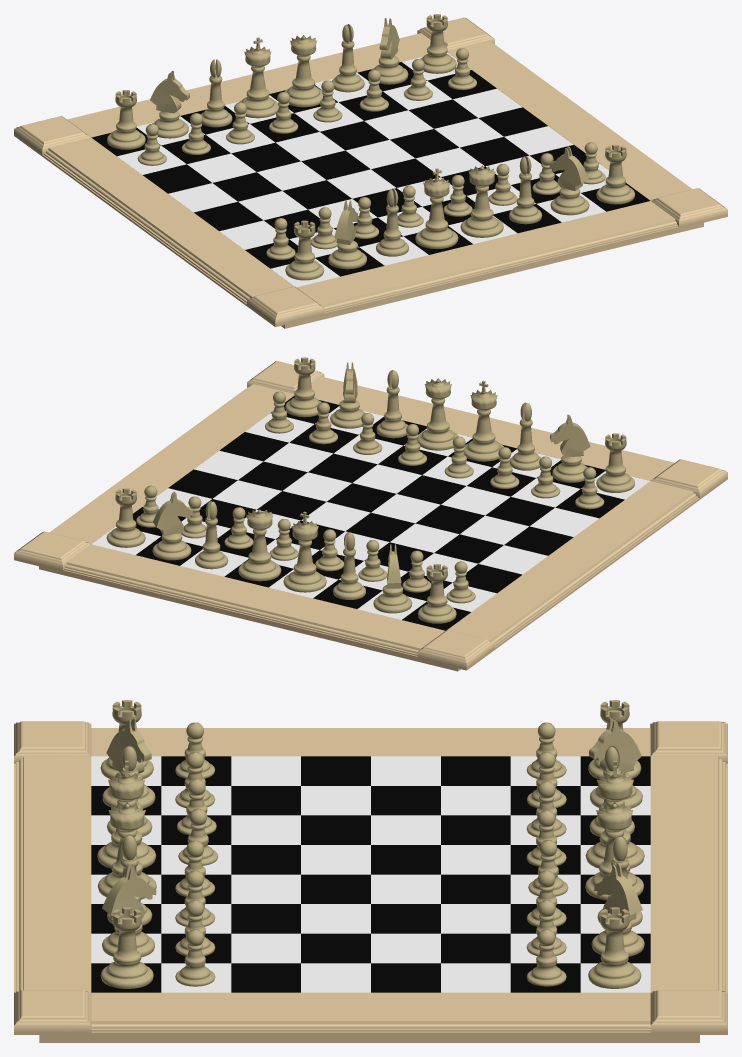
Rendered from Chess-1.FBX.
3 renders of one model, top to bottom at view 1: azimuth 30°, elevation 25°; view 2: azimuth 150°, elevation 25°; view 3: azimuth 270°, elevation 25°, orthographic. The views are drawn at different scales.
Parts seen in each view (by area): view 1: border, king2, knight04, queen2, knight02, king1, queen1, knight03, rook03, rook02, rook04, rook01 (+21 smaller); view 2: border, knight01, king1, knight03, queen1, king2, queen2, rook01, rook02, rook03, rook04, knight02 (+21 smaller); view 3: border, rook04, rook01, knight04, knight01, king2, knight02, queen1, king1, queen2, knight03, p16 (+21 smaller).
Boxes of the visible parts, box(x1,y1,x2,y2) form: border: box(14, 17, 727, 328); king2: box(415, 168, 458, 249); knight04: box(549, 146, 589, 215); queen2: box(460, 165, 503, 237); knight02: box(150, 70, 189, 138); king1: box(239, 37, 278, 118); queen1: box(284, 35, 323, 107); knight03: box(328, 200, 366, 269); rook03: box(285, 220, 324, 280); rook02: box(107, 90, 145, 149); rook04: box(596, 144, 635, 204); rook01: box(420, 14, 456, 73); border: box(14, 361, 727, 671); knight01: box(152, 491, 193, 560); king1: box(283, 511, 326, 592); knight03: box(550, 414, 590, 482); queen1: box(238, 509, 281, 581); king2: box(463, 380, 503, 461); queen2: box(417, 378, 458, 450); rook01: box(106, 488, 145, 547); rook02: box(417, 564, 456, 623); rook03: box(596, 433, 634, 492); rook04: box(285, 357, 321, 417); knight02: box(373, 544, 412, 613); border: box(14, 721, 727, 1042); rook04: box(100, 907, 153, 988); rook01: box(588, 907, 641, 988); knight04: box(102, 864, 156, 957); knight01: box(591, 862, 644, 956); king2: box(97, 760, 156, 868); knight02: box(589, 717, 642, 808); queen1: box(585, 802, 643, 900); king1: box(585, 760, 644, 868); queen2: box(97, 802, 156, 899); knight03: box(102, 718, 155, 808); p16: box(175, 929, 215, 986).
Size of the model in its own units: 16437 by 3176 by 16437.
